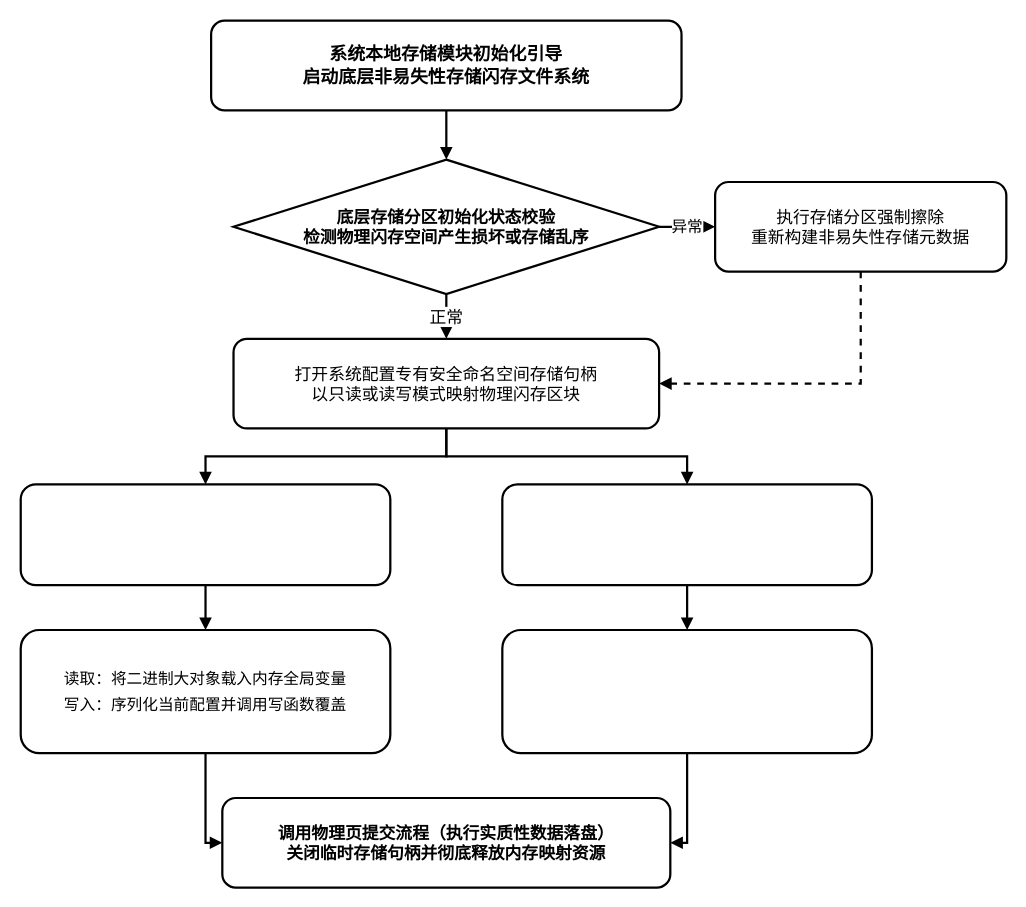
This 1026x907 diagram has some shape labels left out. Here are the shapes that lost their labels. From the top down, the centre of each, then its label:
(x=205, y=534): 【系统核心运行配置结构体】 从安全物理扇区恢复或保存设备特征参数 （含无线凭证、云端密钥、阈值参数）
(x=686, y=534): 【离线断线环境缓存数据队列】 管理网络盲区下的传感器特征历史副本 （含时间戳指针与环境结构体队列）
(x=686, y=691): 读取：检测网络恢复后按先进先出出队上报 写入：广域网断开时循环追加至闪存尾部
